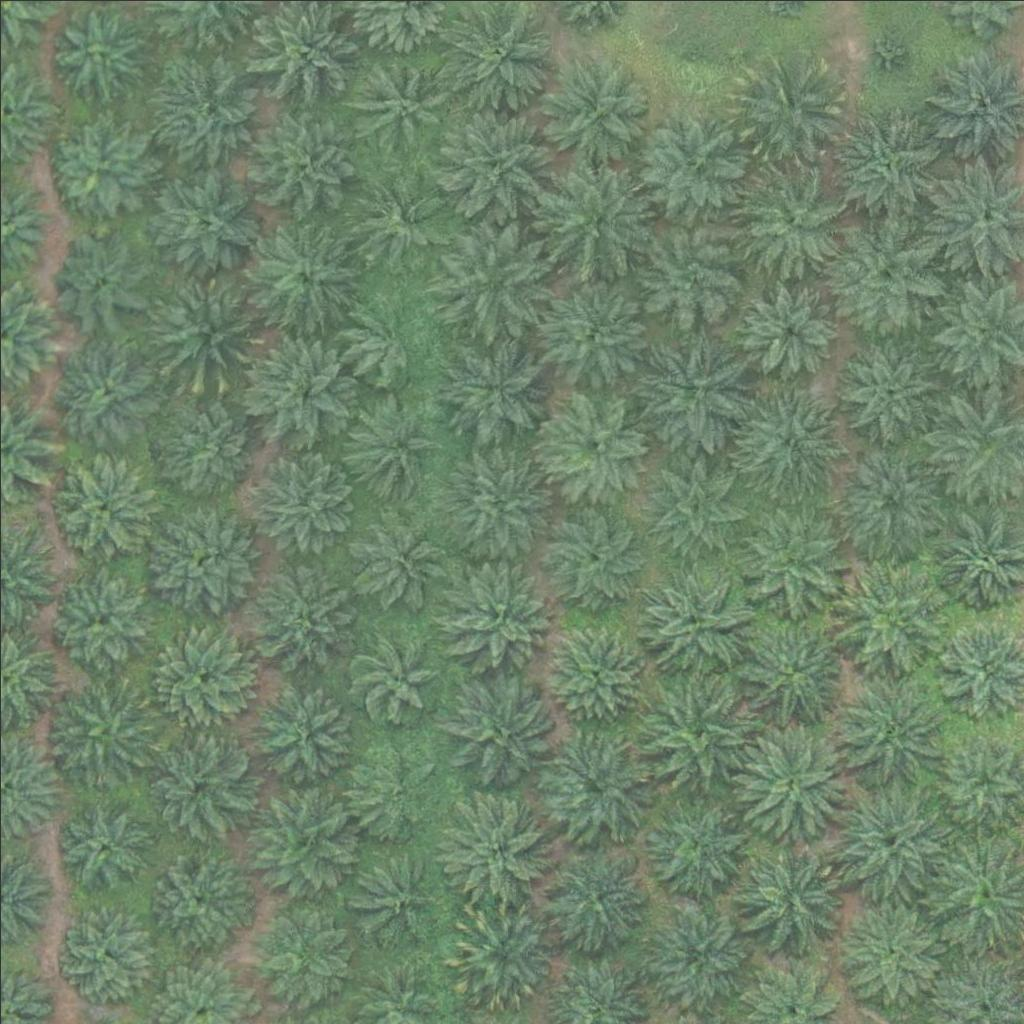Kelapa_Sawit: (831, 676, 944, 790), (733, 500, 846, 614), (138, 840, 251, 954), (41, 676, 154, 790), (441, 5, 554, 119), (538, 274, 651, 388), (541, 164, 654, 278), (640, 445, 753, 559), (638, 335, 751, 449), (730, 380, 843, 494), (444, 897, 557, 1010), (830, 784, 943, 897), (736, 723, 849, 836), (734, 614, 847, 727), (440, 793, 553, 906), (445, 676, 558, 789), (441, 554, 554, 667), (243, 446, 356, 559), (146, 166, 259, 279), (150, 56, 263, 169), (241, 332, 354, 445), (250, 219, 363, 332), (244, 102, 357, 215), (536, 55, 649, 168), (634, 215, 747, 328), (831, 551, 943, 665), (438, 224, 550, 338), (436, 107, 548, 221), (733, 54, 845, 167), (642, 897, 754, 1010), (835, 443, 947, 556), (734, 843, 846, 956), (644, 790, 756, 903), (645, 674, 757, 787), (637, 560, 749, 673), (542, 727, 654, 840), (538, 503, 650, 616), (439, 446, 551, 559), (241, 783, 353, 896), (243, 675, 355, 788), (139, 726, 251, 839), (140, 502, 252, 615), (149, 386, 261, 499), (150, 271, 262, 384), (440, 331, 552, 444), (540, 388, 652, 501), (630, 108, 742, 221), (735, 164, 847, 277), (835, 218, 947, 331), (831, 111, 943, 224), (839, 901, 939, 1002), (548, 847, 648, 948), (545, 624, 645, 725), (247, 563, 347, 664), (149, 627, 249, 728), (47, 570, 147, 671), (54, 455, 154, 556), (57, 343, 157, 444), (48, 227, 148, 328), (47, 117, 147, 218), (50, 3, 150, 104), (342, 397, 442, 498), (738, 279, 838, 380), (836, 338, 936, 439), (243, 904, 343, 1004), (52, 905, 152, 1005), (49, 794, 149, 894), (350, 171, 450, 271), (346, 52, 446, 152), (350, 851, 438, 939), (345, 293, 433, 381), (347, 747, 434, 835), (352, 633, 439, 721), (351, 517, 438, 605), (859, 26, 909, 77), (668, 34, 718, 84)
